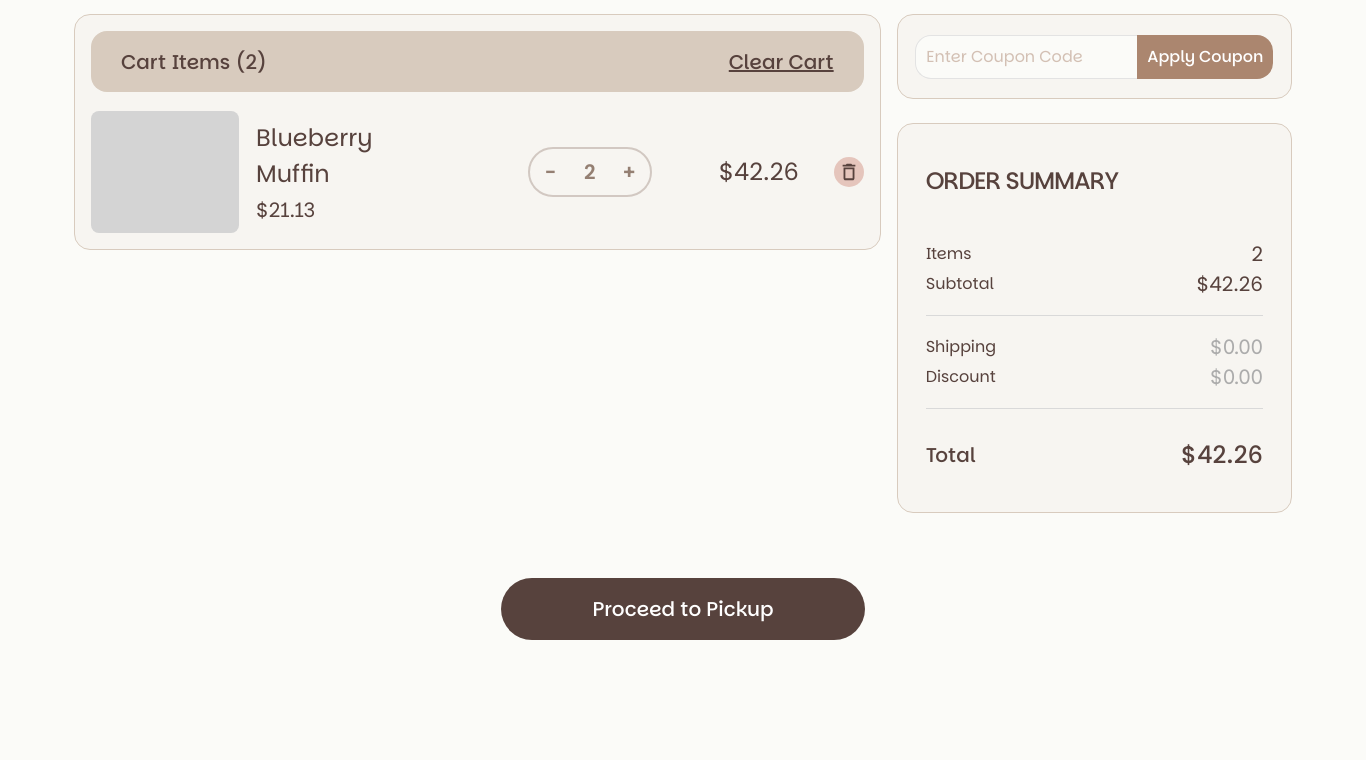
Test case: Pickup stage 2 - Step 01, the contact form › treats the email address as mandatory, not optional
(page scrolled)
Click the button "Proceed to Pickup" at coordinates (683, 609), box [501,578,865,640]
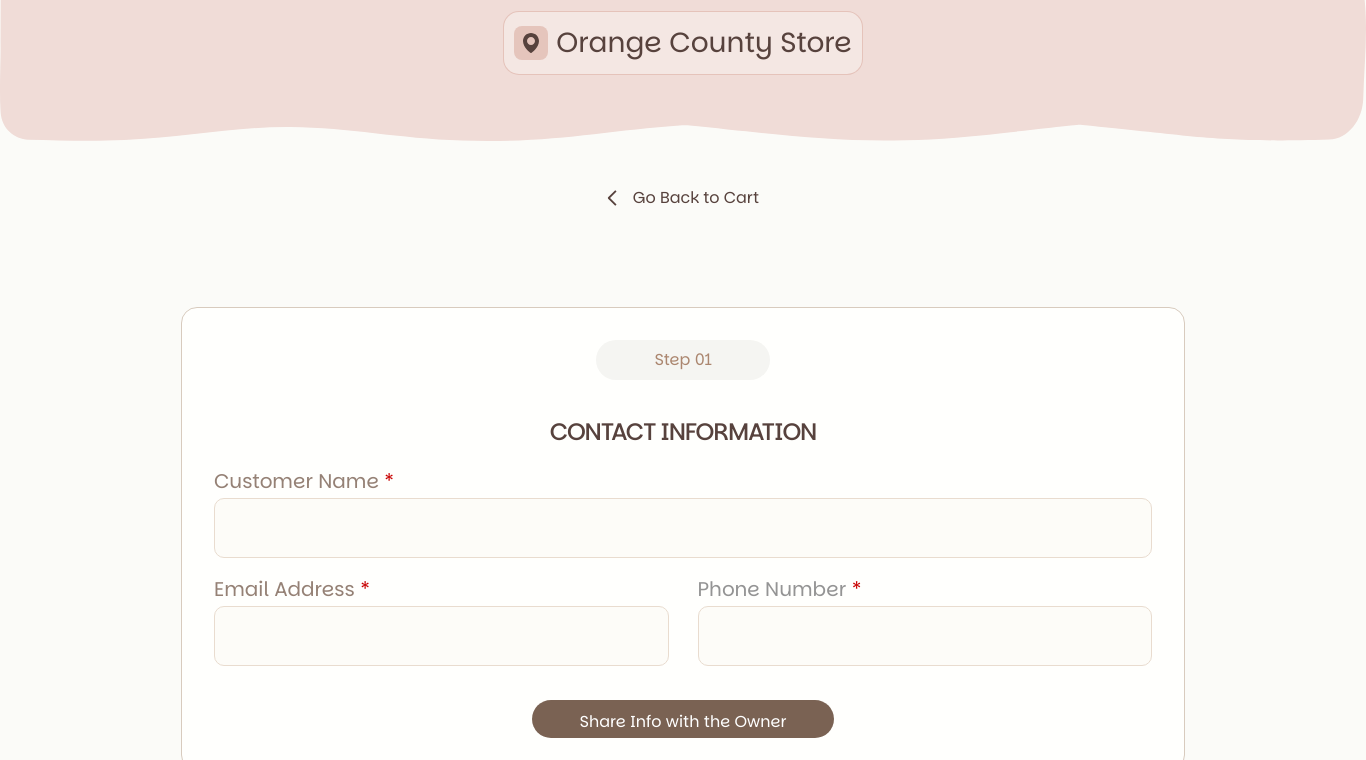
Type "Jess" into the field labelled "Customer Name *" at coordinates (683, 528), box [214,498,1152,558]
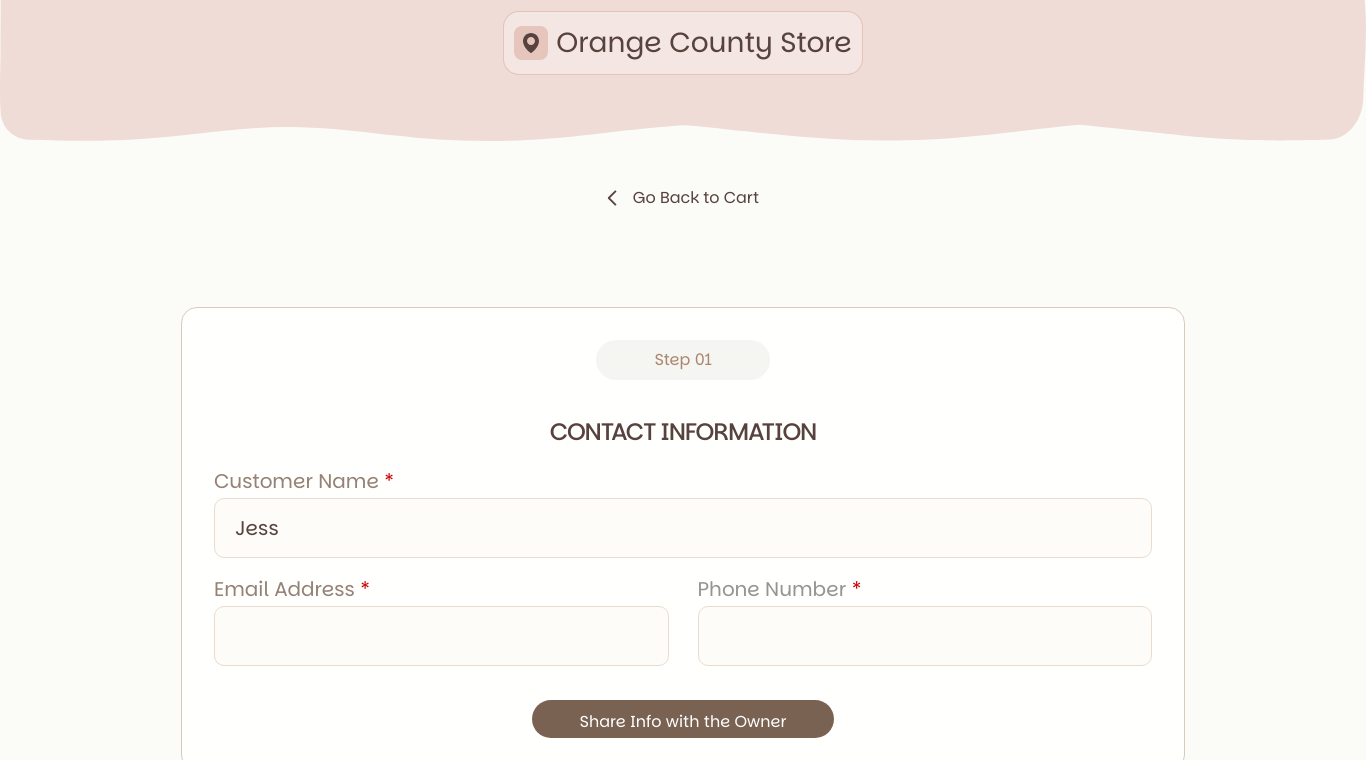
Type "714-555-0123" into the field labelled "Phone Number *" at coordinates (925, 636), box [698,606,1152,666]
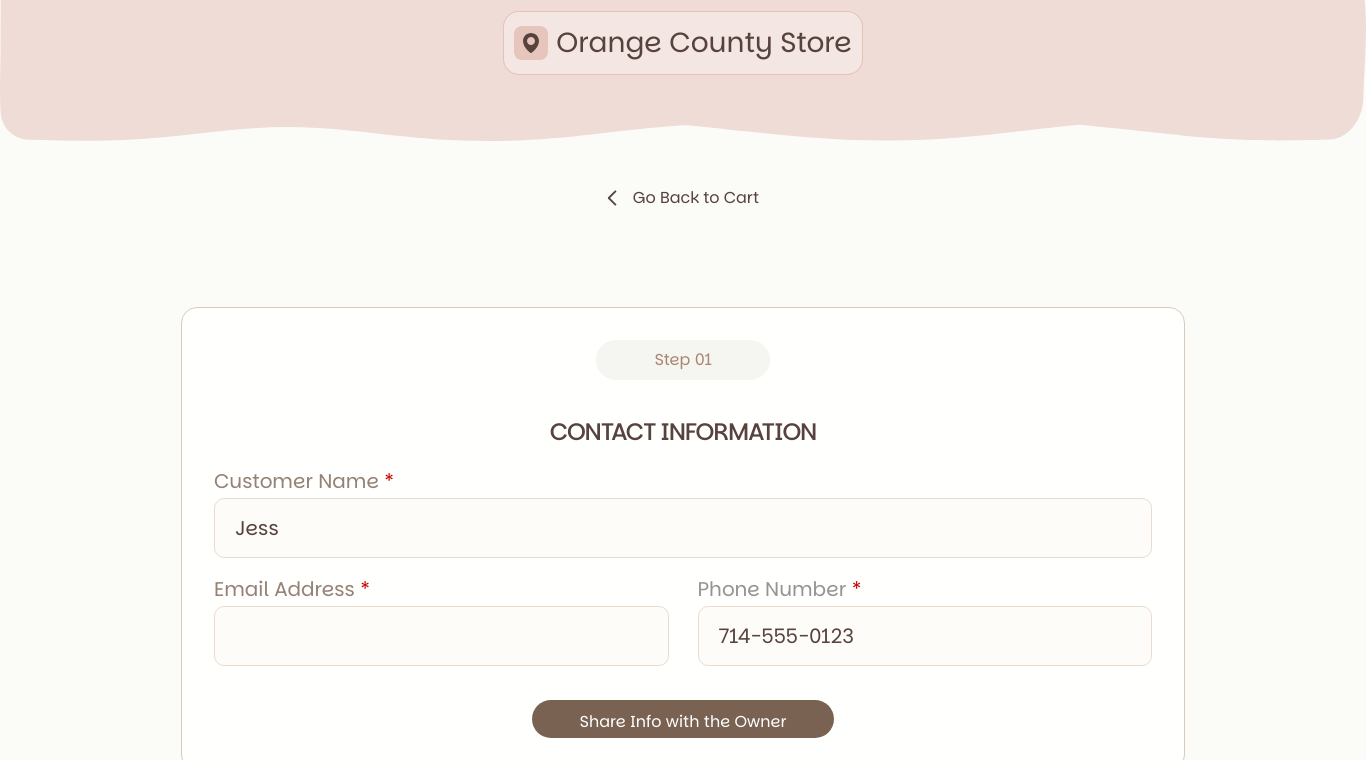
Click the button "Share Info with the Owner" at coordinates (683, 719), box [532,700,834,738]
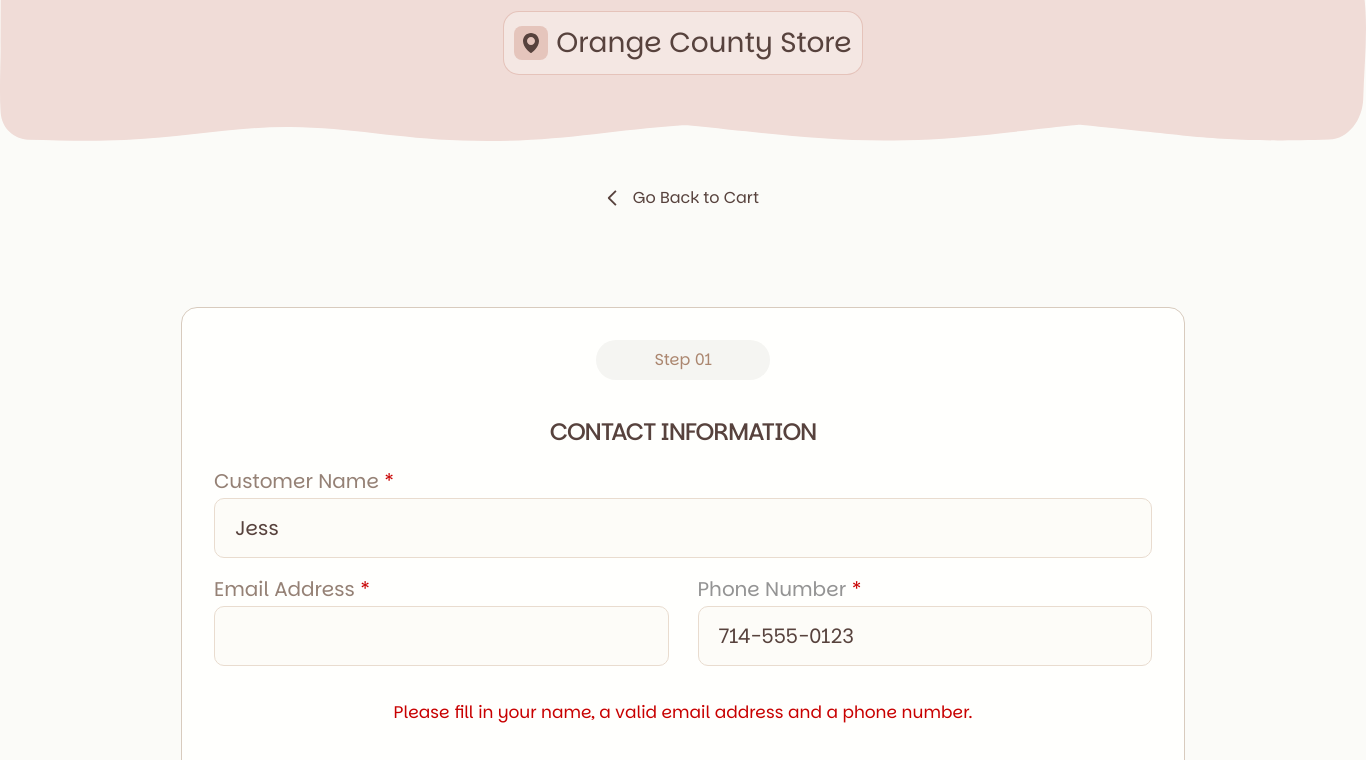
Expected: the message shows "valid email address", [394,700,972,724]
